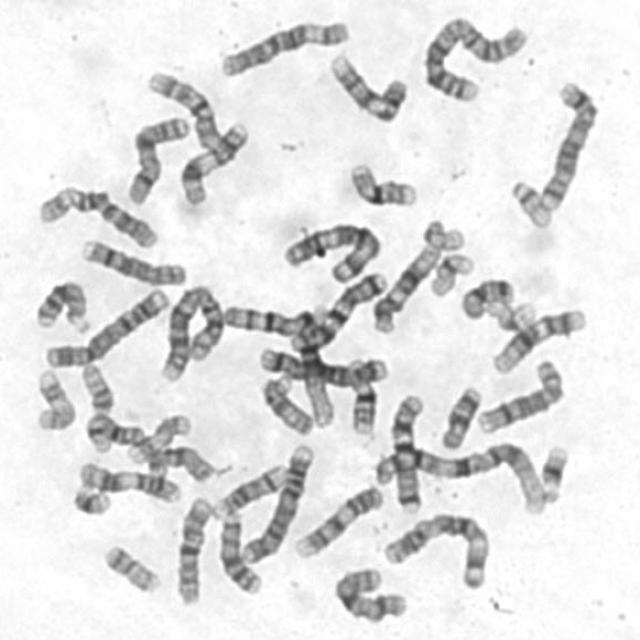A1: (369, 434, 549, 518), (220, 304, 338, 432)
A2: (416, 8, 531, 104), (153, 277, 226, 385)
A3: (376, 505, 492, 591), (276, 216, 384, 284)
B4: (38, 282, 170, 370), (235, 437, 316, 565)
B5: (531, 74, 600, 212), (252, 340, 390, 387)
C10: (140, 62, 225, 151), (168, 490, 215, 607)
C11: (173, 115, 251, 206), (70, 456, 183, 505)
C12: (366, 236, 443, 336), (487, 300, 589, 374)
C6: (212, 12, 352, 80), (31, 179, 161, 251)
C7: (286, 266, 389, 350), (384, 387, 426, 516)
C8: (472, 352, 566, 436), (75, 232, 189, 287)
C9: (288, 479, 386, 560), (323, 45, 410, 125)
D13: (212, 502, 264, 596), (28, 272, 92, 336)
D14: (207, 457, 291, 521), (80, 407, 146, 454)
D15: (254, 369, 316, 437), (139, 439, 215, 485)
E16: (342, 155, 420, 209), (338, 351, 380, 437)
E17: (120, 408, 194, 467), (29, 362, 78, 433)
E18: (434, 379, 484, 451), (455, 271, 515, 321)
F19: (423, 246, 476, 298), (479, 292, 540, 334)
F20: (96, 538, 163, 596), (75, 358, 116, 414)
G21: (534, 437, 571, 504), (66, 479, 114, 517)
G22: (503, 173, 554, 229), (416, 212, 467, 252)
X: (120, 109, 192, 206), (326, 561, 410, 625)
